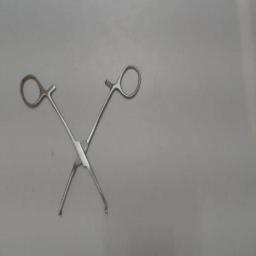Allis Tissue Forceps: (17, 60, 145, 222)
